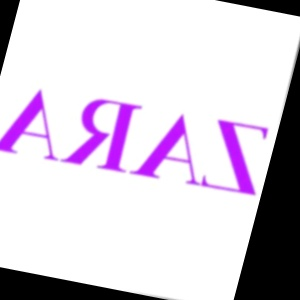zara: (264, 69, 294, 172)
